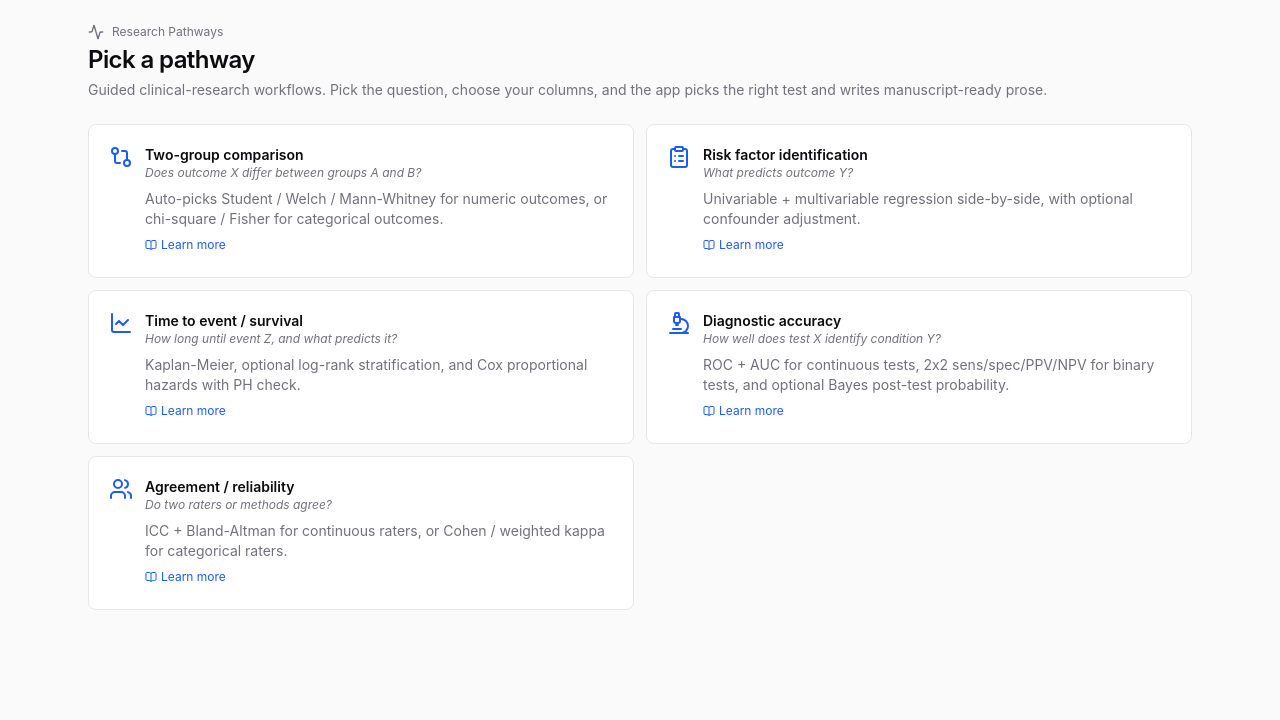
Test case: PathwaysPage › warns when no datasets exist
Click the button with test id "pathway-card-survival" at (361, 367), box [88, 290, 634, 444]
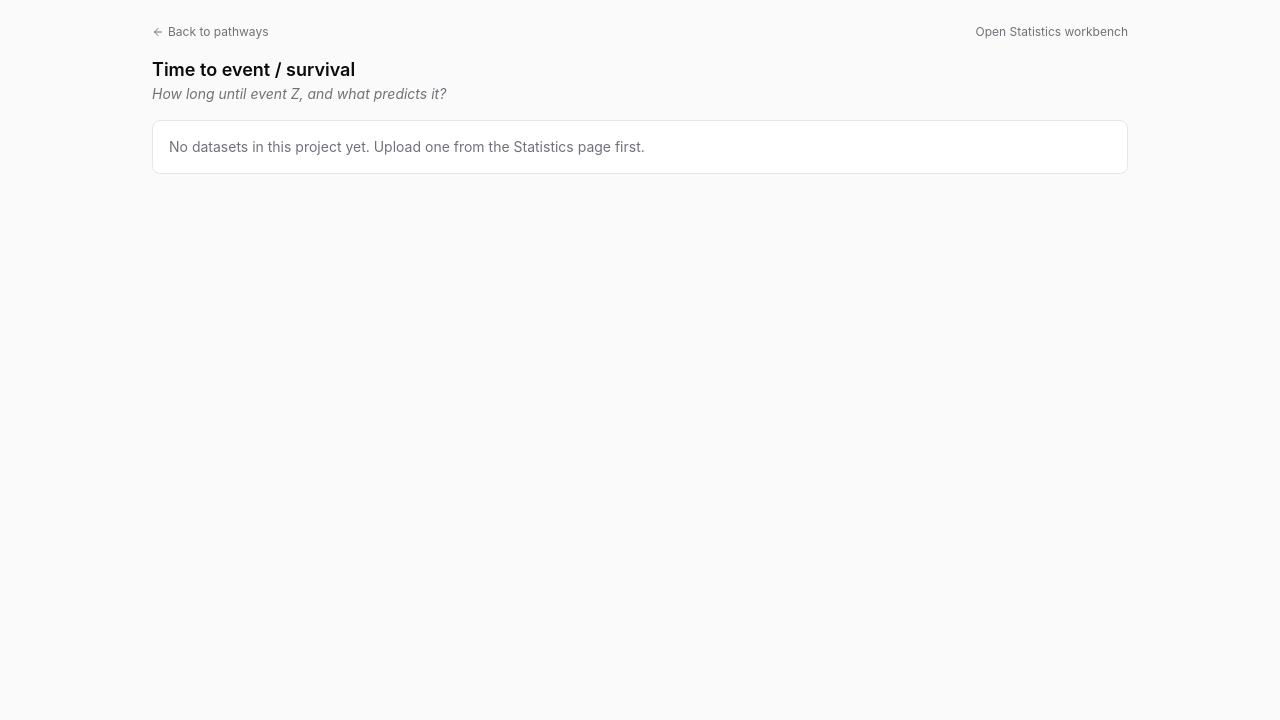
Now the text "No datasets in this project" is shown, box [169, 138, 645, 155]
